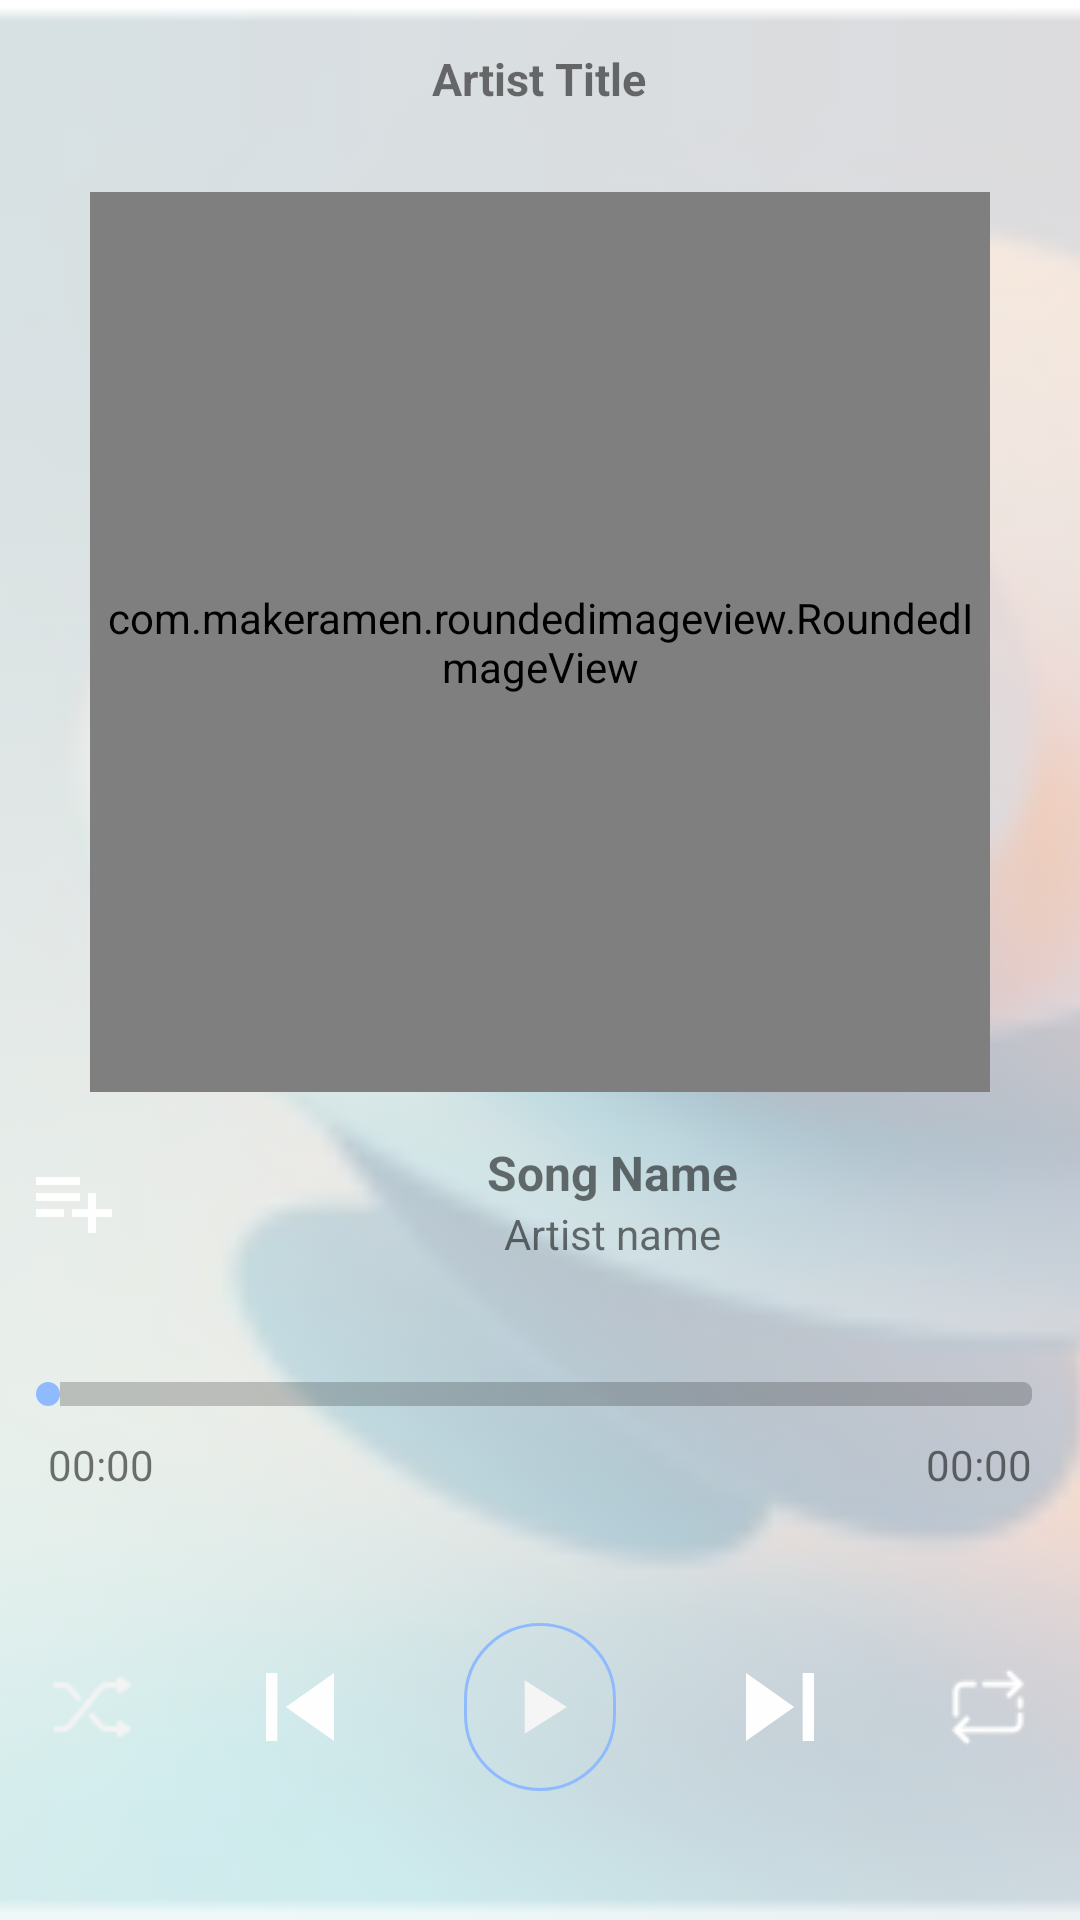

Locate icon controls on the screen. Image size 1080*1920, boxes as (x1, y1, x2, y2).
play arrow: (464, 1623, 616, 1791)
repeat: (953, 1670, 1024, 1743)
shuffle: (57, 1680, 127, 1733)
skip next: (746, 1673, 814, 1741)
skip previous: (266, 1673, 334, 1741)
